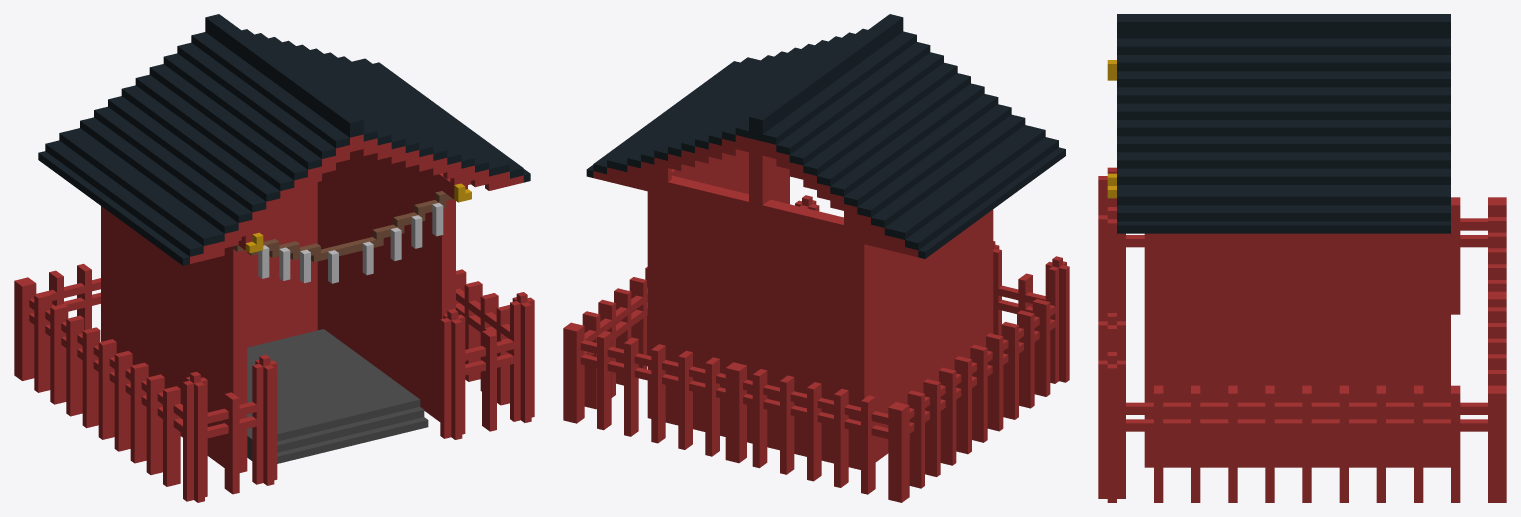
File: mapkari-33.obj
3 renders of one model, left to right at view 1: azimuth 30°, elevation 25°; view 2: azimuth 150°, elevation 25°; view 3: azimuth 270°, elevation 25°, orthographic. The views are drawn at different scales.
Parts seen in each view (by area): view 1: mapkari-16; view 2: mapkari-16; view 3: mapkari-16.
Boxes of the visible parts, x1,y1,x2,y2 form: mapkari-16: (14,14,534,502); mapkari-16: (563,14,1069,502); mapkari-16: (1098,14,1506,502).
Size of the model in its own units: 50 by 46 by 44.
